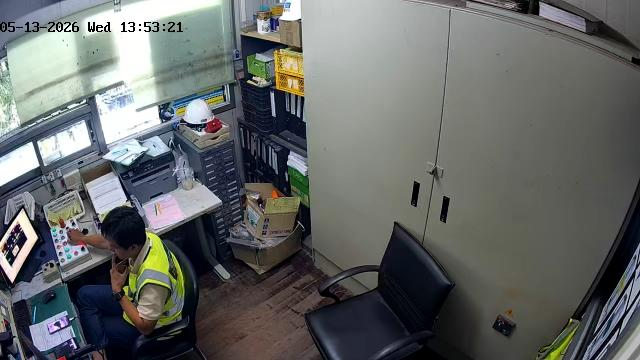Head: (101, 206, 146, 259)
People: (69, 207, 184, 349)
Phone: (52, 337, 80, 359), (47, 316, 69, 333)
